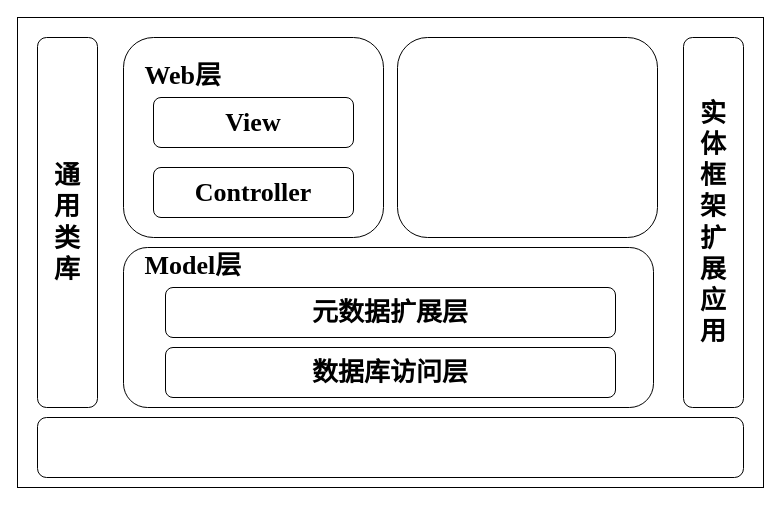
Some shapes in this 781 by 505 pixel diagram are drawn without their labels. Each missing label, with the centre of its shape:
"业务层" belongs at point (527, 137).
"数据库" belongs at point (390, 447).
